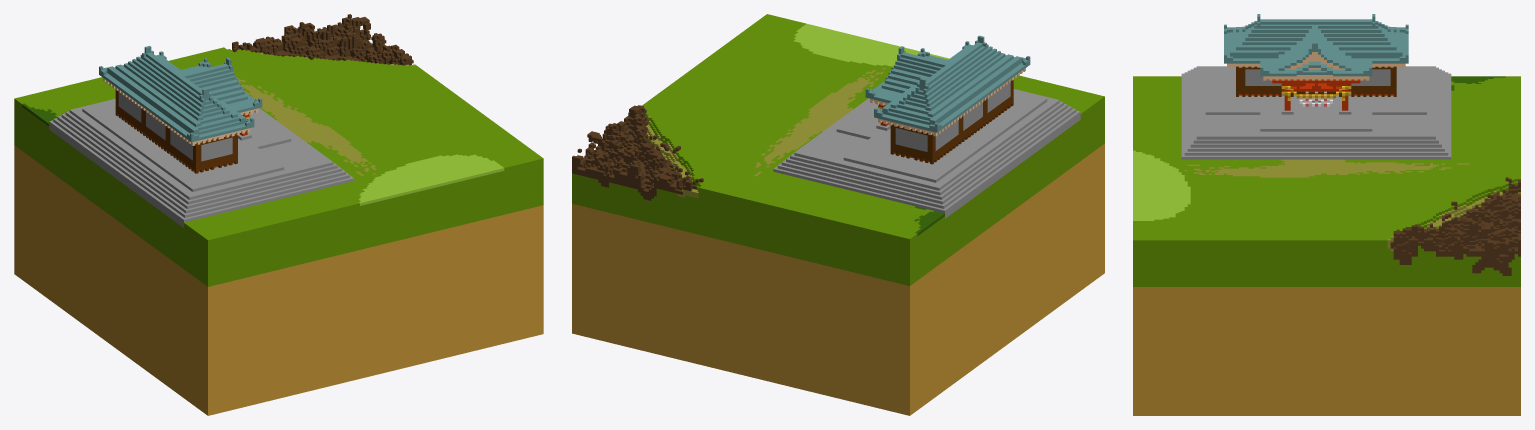
The picture shows the model from 3 angles, left to right: view 1: azimuth 30°, elevation 25°; view 2: azimuth 150°, elevation 25°; view 3: azimuth 270°, elevation 25°; orthographic projection.
Parts seen in each view (by area): view 1: 1G; view 2: 1G; view 3: 1G.
Boxes of the visible parts, box(x1,y1,x2,y2) form: 1G: box(14, 14, 543, 415); 1G: box(572, 14, 1104, 415); 1G: box(1133, 14, 1520, 415).
Size of the model in its own units: 12.8 by 9.7 by 12.8.
1 material, 1 textured.
